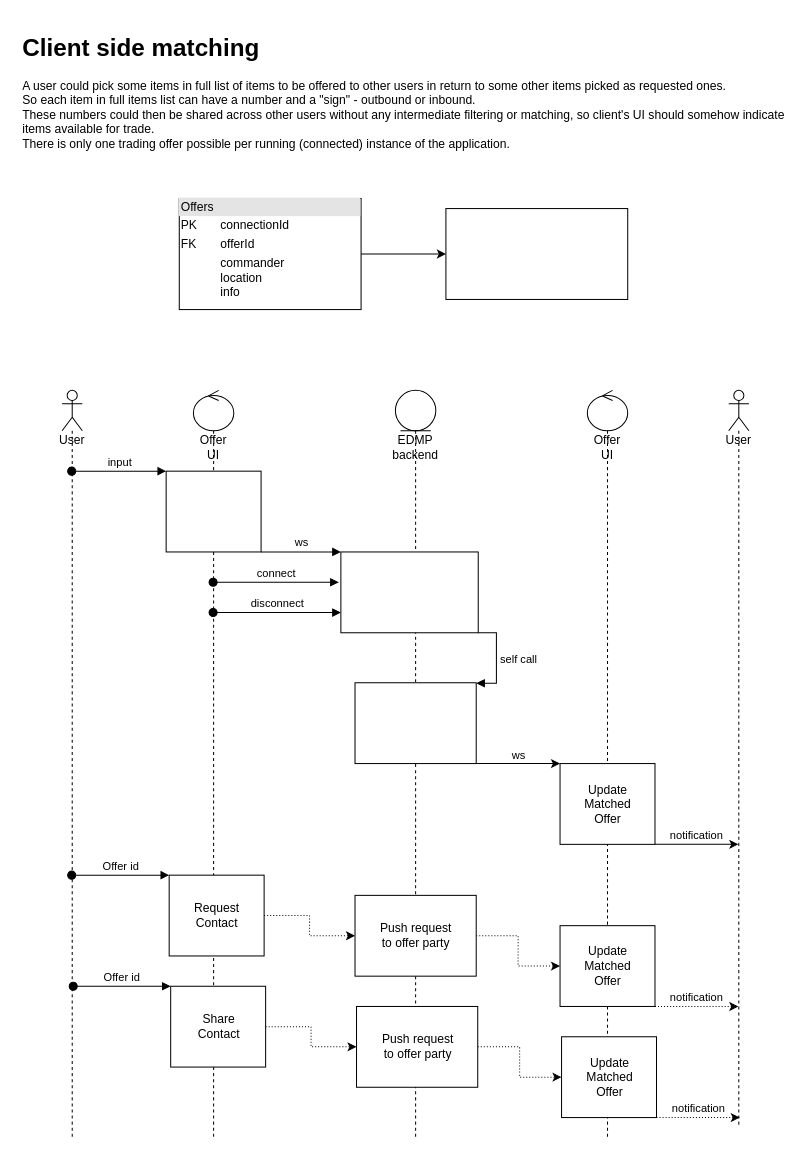
Some shapes in this 812 by 1155 pixel diagram are drawn without their labels. Each missing label, with the centre of its shape:
Broadcast a Data was Changed Notification: the point at 415,723
Create/Update/Delete Offer and Items: the point at 409,592
OfferItems PK offerId PK itemId outbound inbound: the point at 536,253
Pick Items and specify Inbound and Outbound numbers: the point at 213,511
